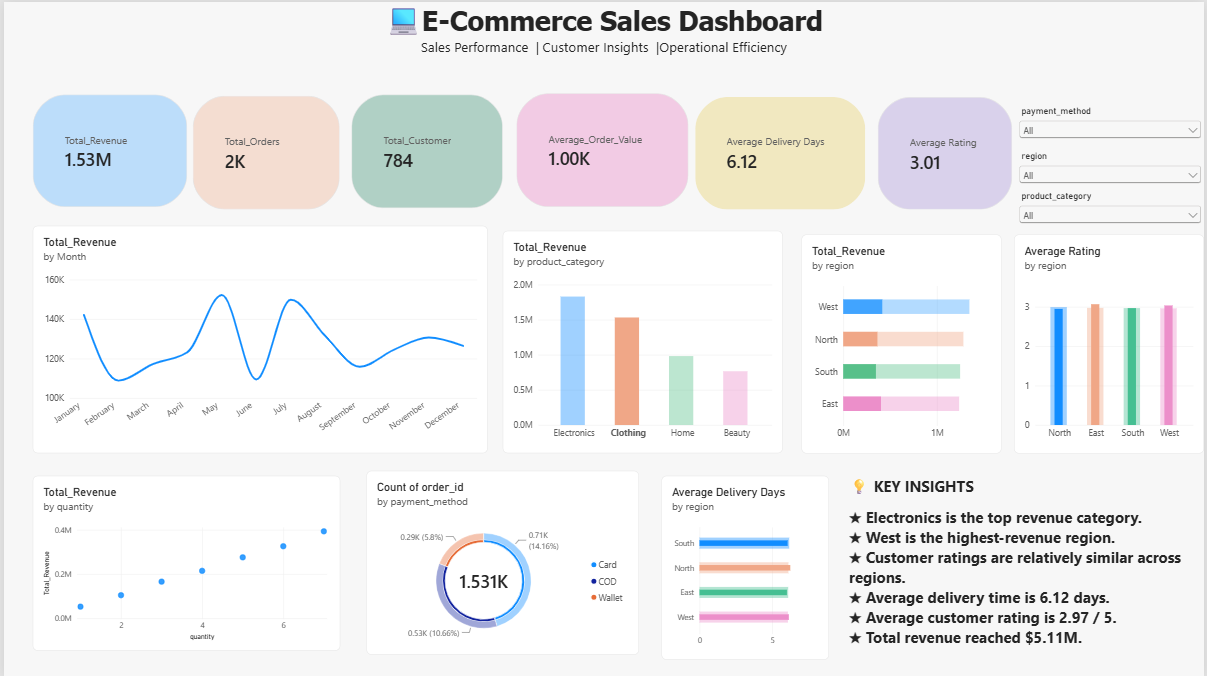

Layout of this report page (visuals, bound fields, positions):
{"tool":"powerbi","page":{"name":"Page 1","canvas":[1920,1080],"ordinal":0},"visuals":[{"type":"cardVisual","fields":{"Data":["ecommerce_sales_cleaned.Total_Revenue"]},"box":[45,147.5,247.5,180],"z":0},{"type":"cardVisual","fields":{"Data":["ecommerce_sales_cleaned.Total_Orders"]},"box":[302.5,150,235,182.5],"z":1000},{"type":"cardVisual","fields":{"Data":["ecommerce_sales_cleaned.Total_Customer"]},"box":[555,147.5,242.5,182.5],"z":2000},{"type":"cardVisual","fields":{"Data":["ecommerce_sales_cleaned.Average_Order_Value"]},"box":[820,145,275,182.5],"z":3000},{"type":"cardVisual","fields":{"Data":["ecommerce_sales_cleaned.Average Rating"]},"box":[1397.5,152.5,215,180],"z":4000},{"type":"lineChart","title":"Monthly Revenue Trend","fields":{"Category":["ecommerce_sales_cleaned.month.Variation.Date Hierarchy.Month","ecommerce_sales_cleaned.month.Variation.Date Hierarchy.Day"],"Y":["ecommerce_sales_cleaned.Total_Revenue"]},"box":[46,358,728,364],"z":5000},{"type":"clusteredColumnChart","title":"Revenue by Product Category","fields":{"Category":["ecommerce_sales_cleaned.product_category"],"Y":["ecommerce_sales_cleaned.Total_Revenue"]},"box":[798,366,448,356],"z":6000},{"type":"clusteredBarChart","title":"Revenue by Region","fields":{"Category":["ecommerce_sales_cleaned.region"],"Y":["ecommerce_sales_cleaned.Total_Revenue"]},"box":[1276,372,320,350],"z":7000},{"type":"scatterChart","title":"Quantity vs Revenue","fields":{"X":["ecommerce_sales_cleaned.quantity"],"Y":["ecommerce_sales_cleaned.Total_Revenue"]},"box":[46,758,491.7,280],"z":8000},{"type":"donutChart","title":"Orders by Payment Method","fields":{"Category":["ecommerce_sales_cleaned.payment_method"],"Y":["CountNonNull(ecommerce_sales_cleaned.order_id)"]},"box":[580,750,436,294],"z":9000},{"type":"clusteredColumnChart","title":"Average Customer Rating by Region","fields":{"Category":["ecommerce_sales_cleaned.region"],"Y":["ecommerce_sales_cleaned.Average Rating"]},"box":[1616,372,304,350],"z":10000},{"type":"clusteredBarChart","title":"Average Delivery Time by Region","fields":{"Category":["ecommerce_sales_cleaned.region"],"Y":["ecommerce_sales_cleaned.Average Delivery Days"]},"box":[1052,758,268,294],"z":11000},{"type":"textbox","box":[0,0,1920,110],"z":12000},{"type":"textbox","box":[1280,1052,280,28],"z":13000},{"type":"textbox","box":[1352,758,568,294],"z":14000},{"type":"cardVisual","fields":{"Data":["ecommerce_sales_cleaned.Average Delivery Days"]},"box":[1105,152.5,272.5,180],"z":15000},{"type":"slicer","fields":{"Values":["ecommerce_sales_cleaned.product_category"]},"box":[1620,302.5,300,70],"z":15001},{"type":"slicer","fields":{"Values":["ecommerce_sales_cleaned.region"]},"box":[1620,237.5,300,60],"z":15002},{"type":"slicer","fields":{"Values":["ecommerce_sales_cleaned.payment_method"]},"box":[1620,165,300,75],"z":15003}]}

Visuals, with their boxes in screenshot pixels (x1, y1, x2, y2), scaled from the page's 1920x1080 canvas onto the 1207x676 screenshot:
cardVisual - ecommerce_sales_cleaned.Total_Revenue: x1=28, y1=92, x2=184, y2=205
cardVisual - ecommerce_sales_cleaned.Total_Orders: x1=190, y1=94, x2=338, y2=208
cardVisual - ecommerce_sales_cleaned.Total_Customer: x1=349, y1=92, x2=501, y2=207
cardVisual - ecommerce_sales_cleaned.Average_Order_Value: x1=515, y1=91, x2=688, y2=205
cardVisual - ecommerce_sales_cleaned.Average Rating: x1=879, y1=95, x2=1014, y2=208
"Monthly Revenue Trend" lineChart: x1=29, y1=224, x2=487, y2=452
"Revenue by Product Category" clusteredColumnChart: x1=502, y1=229, x2=783, y2=452
"Revenue by Region" clusteredBarChart: x1=802, y1=233, x2=1003, y2=452
"Quantity vs Revenue" scatterChart: x1=29, y1=474, x2=338, y2=650
"Orders by Payment Method" donutChart: x1=365, y1=469, x2=639, y2=653
"Average Customer Rating by Region" clusteredColumnChart: x1=1016, y1=233, x2=1206, y2=452
"Average Delivery Time by Region" clusteredBarChart: x1=661, y1=474, x2=830, y2=658
textbox: x1=0, y1=0, x2=1206, y2=69
textbox: x1=805, y1=658, x2=981, y2=675
textbox: x1=850, y1=474, x2=1206, y2=658
cardVisual - ecommerce_sales_cleaned.Average Delivery Days: x1=695, y1=95, x2=866, y2=208
slicer - ecommerce_sales_cleaned.product_category: x1=1018, y1=189, x2=1206, y2=233
slicer - ecommerce_sales_cleaned.region: x1=1018, y1=149, x2=1206, y2=186
slicer - ecommerce_sales_cleaned.payment_method: x1=1018, y1=103, x2=1206, y2=150
